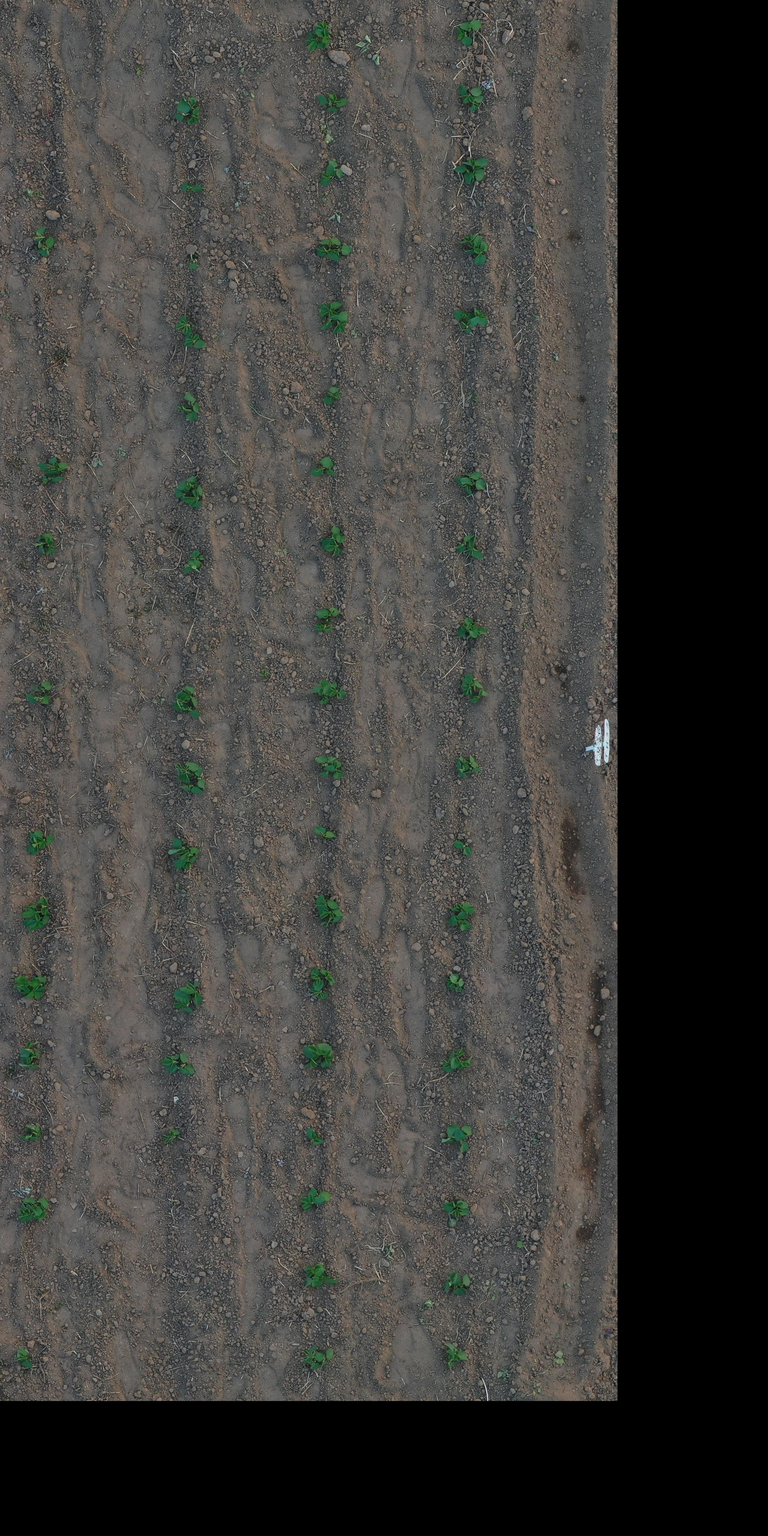s: (178, 980, 203, 1006), (174, 846, 200, 870), (304, 31, 333, 52), (171, 701, 200, 720), (44, 456, 69, 478), (314, 755, 338, 777), (175, 312, 195, 338), (321, 524, 341, 550), (182, 484, 203, 508), (463, 536, 484, 560), (175, 762, 199, 783), (172, 990, 193, 1014), (444, 1342, 469, 1362), (325, 533, 346, 556), (21, 903, 42, 926), (458, 84, 482, 104), (22, 915, 50, 932), (310, 456, 332, 477), (300, 1194, 325, 1212), (316, 94, 338, 114), (322, 759, 344, 779), (174, 404, 198, 422), (317, 904, 344, 920), (315, 246, 340, 263), (454, 533, 475, 553), (34, 830, 55, 850), (304, 1267, 324, 1288), (315, 1348, 334, 1370), (319, 301, 343, 318), (311, 1274, 340, 1288), (449, 901, 476, 916), (315, 894, 340, 910), (14, 1348, 33, 1369), (183, 391, 200, 414), (331, 311, 348, 334), (302, 1045, 319, 1068), (473, 240, 488, 266), (456, 622, 480, 638), (464, 235, 483, 255), (454, 165, 473, 185), (161, 1054, 181, 1073), (441, 1124, 460, 1144), (454, 1128, 469, 1153), (446, 909, 468, 926), (320, 164, 336, 187), (41, 533, 57, 556), (314, 826, 337, 842), (179, 1052, 195, 1075), (442, 1200, 470, 1213), (36, 236, 54, 256), (180, 96, 200, 114), (460, 316, 480, 334), (464, 672, 484, 690), (27, 975, 47, 993), (307, 1187, 331, 1202), (174, 101, 191, 122), (455, 26, 472, 47), (18, 1202, 35, 1223), (460, 676, 476, 698), (466, 688, 488, 704), (314, 606, 341, 619), (22, 1197, 49, 1210), (182, 334, 207, 348), (27, 831, 41, 856), (310, 967, 324, 992), (459, 19, 482, 34), (183, 685, 198, 708), (450, 1047, 465, 1070), (319, 1046, 334, 1069), (323, 386, 341, 405), (168, 837, 186, 856), (162, 1128, 181, 1146), (306, 1127, 324, 1146), (455, 476, 472, 496), (310, 679, 330, 696), (329, 680, 346, 700), (446, 1125, 472, 1138), (327, 92, 348, 108), (177, 476, 198, 492), (318, 684, 334, 705), (460, 471, 482, 486), (443, 1271, 458, 1293), (462, 158, 489, 170), (13, 975, 30, 994), (310, 983, 329, 1000), (30, 681, 53, 695), (320, 914, 343, 928), (301, 1344, 317, 1364), (464, 617, 479, 638), (461, 478, 487, 490), (451, 1272, 464, 1296), (466, 626, 488, 640), (320, 314, 339, 330), (181, 182, 206, 194), (174, 691, 189, 711), (452, 841, 472, 856), (34, 226, 47, 249), (441, 1050, 454, 1073), (307, 1043, 330, 1056), (311, 21, 332, 35), (320, 968, 336, 986), (24, 1047, 42, 1063), (24, 694, 50, 705), (328, 160, 343, 179), (23, 1201, 42, 1216), (333, 245, 353, 259), (474, 306, 488, 326), (468, 754, 482, 774), (453, 310, 476, 322), (448, 1207, 471, 1219), (187, 105, 200, 126), (468, 95, 484, 112), (454, 915, 470, 932), (456, 1054, 473, 1070), (314, 28, 332, 43), (34, 1204, 48, 1223), (458, 232, 480, 244), (194, 766, 205, 790), (458, 1274, 471, 1294), (41, 475, 64, 486), (303, 1263, 326, 1274), (445, 973, 459, 991), (19, 1046, 32, 1065), (319, 237, 341, 248), (469, 168, 485, 183), (181, 784, 204, 794), (34, 535, 46, 554), (456, 759, 468, 777), (187, 550, 200, 566), (449, 974, 465, 987), (20, 990, 43, 999), (182, 564, 202, 574), (315, 623, 335, 633), (37, 898, 48, 916), (458, 756, 470, 772), (447, 1349, 456, 1370), (169, 1066, 189, 1075), (18, 1134, 40, 1142), (174, 488, 187, 501), (18, 1062, 39, 1070), (308, 1356, 320, 1370), (25, 1123, 40, 1134), (193, 555, 205, 568), (37, 462, 52, 472), (326, 460, 335, 476), (188, 256, 198, 270), (26, 1040, 41, 1049), (24, 1128, 38, 1135), (455, 983, 464, 992), (324, 616, 332, 623), (472, 396, 480, 402), (468, 391, 474, 396)
